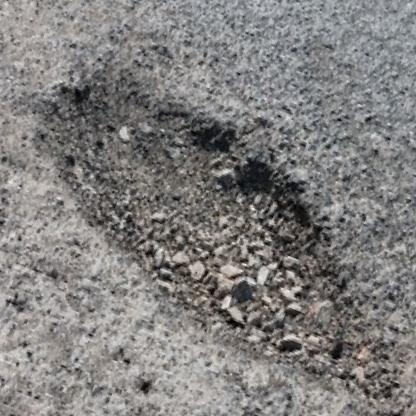pothole: (0, 55, 394, 373)
